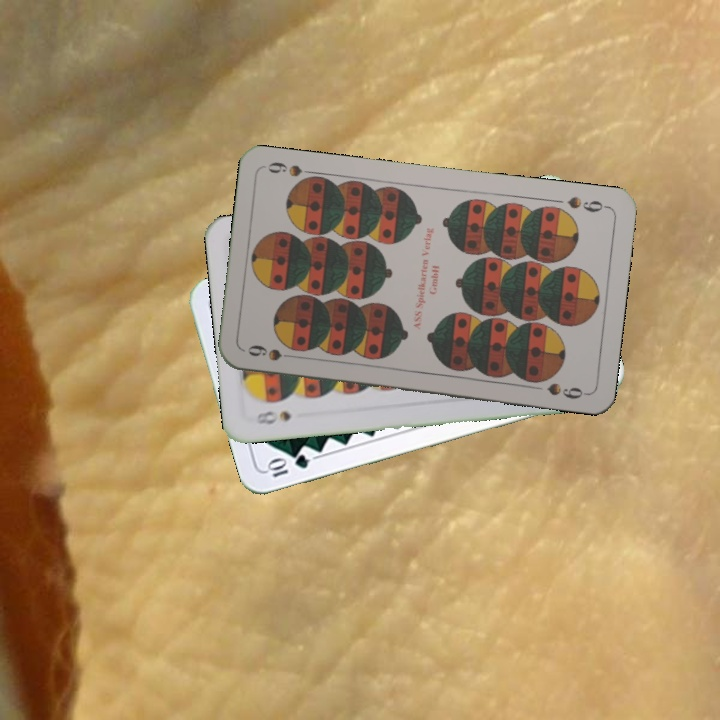G10: (263, 450, 312, 480)
S8: (252, 406, 294, 427)
S9: (243, 341, 301, 364), (564, 192, 611, 215)
